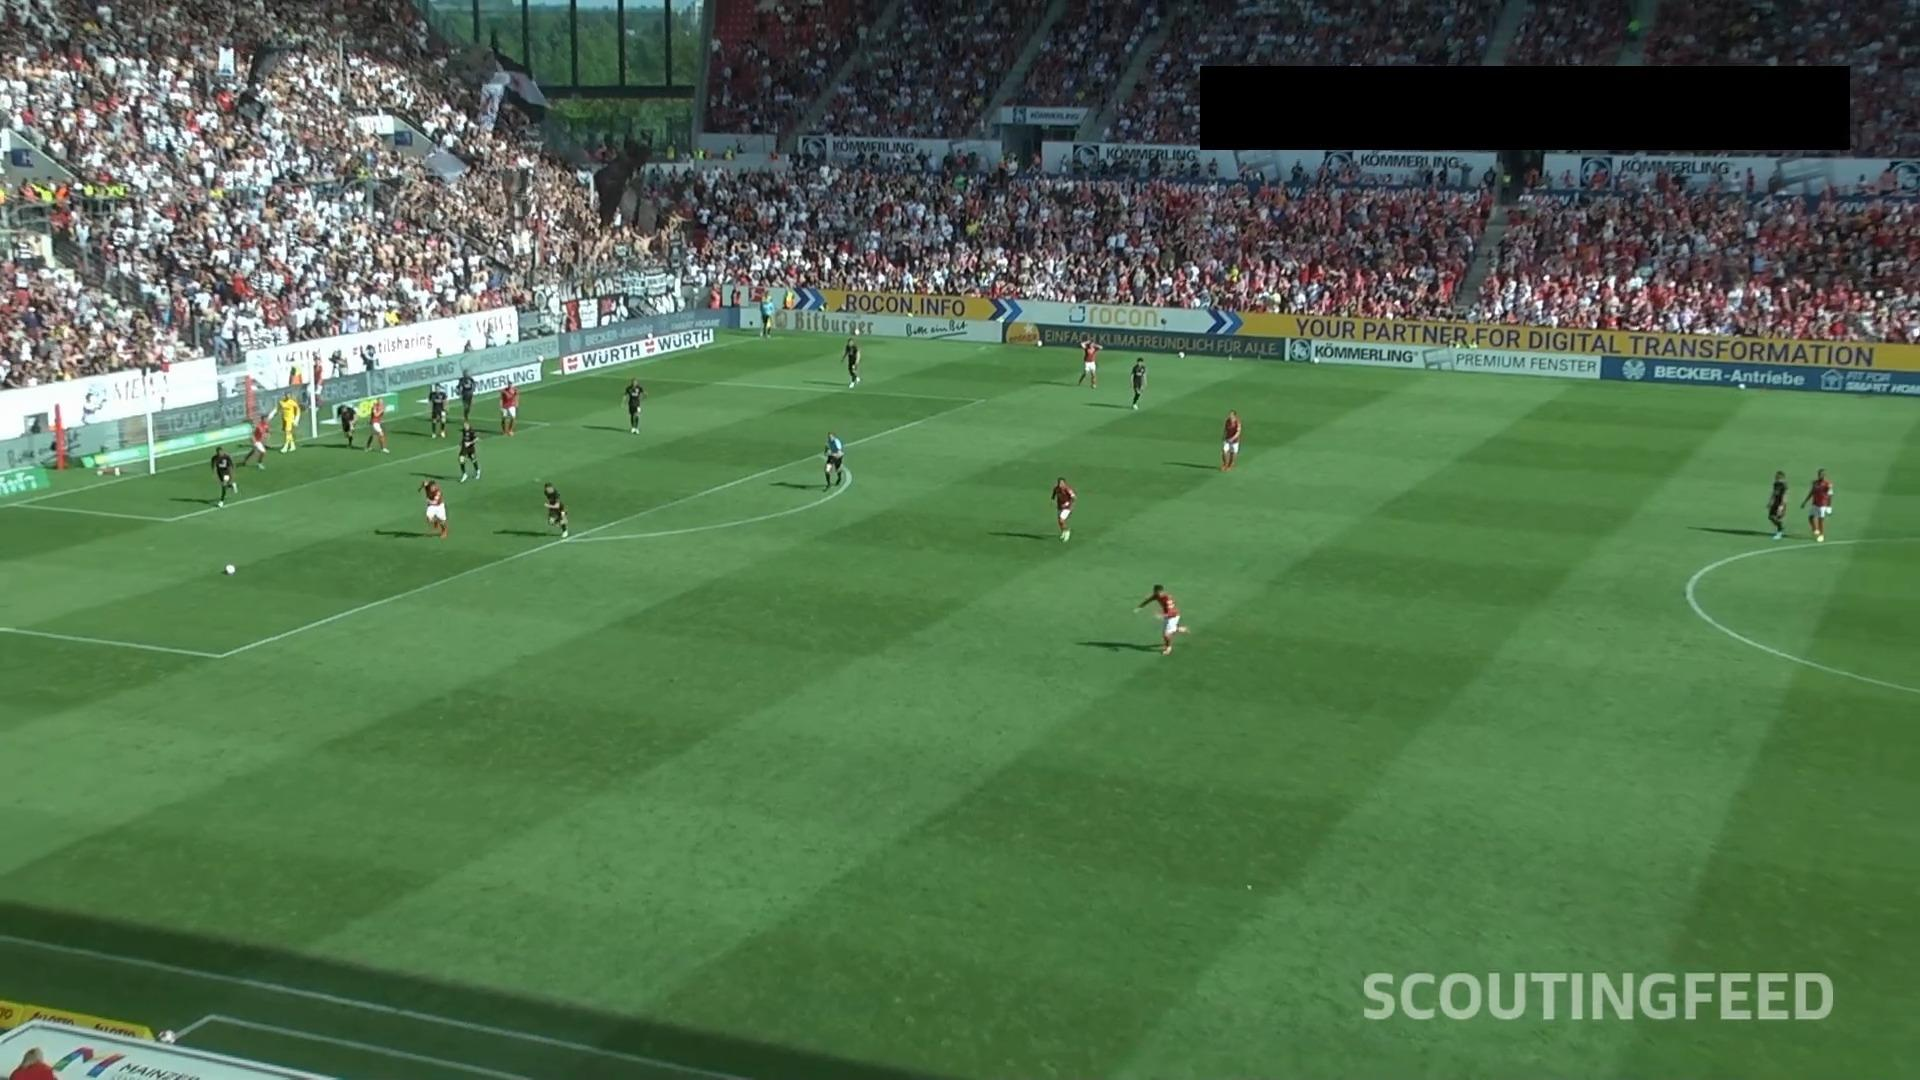ball: (224, 563, 235, 575)
